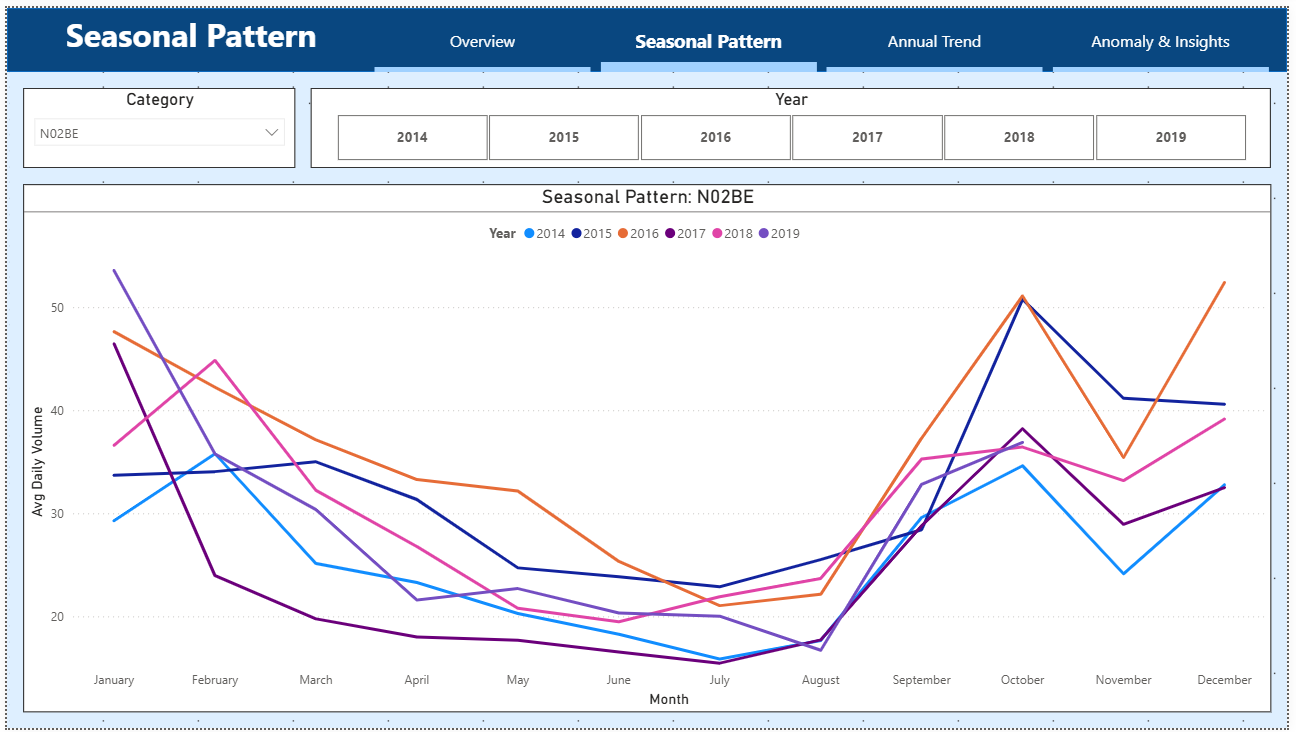

The dashboard page shown, as its layout file describes it:
{"tool":"powerbi","page":{"name":"Seasonal Pattern","canvas":[1280,720],"ordinal":1},"visuals":[{"type":"slicer","title":"Category","fields":{"Values":["salesdaily.Kategori"]},"box":[16,80,272,80],"z":0},{"type":"lineChart","fields":{"Category":["salesdaily.datum.Variation.Date Hierarchy.Month"],"Y":["salesdaily.Avg Daily Volume"],"Series":["salesdaily.Year"]},"box":[16,176,1248,528],"z":1000},{"type":"slicer","title":"Year","fields":{"Values":["salesdaily.datum.Variation.Date Hierarchy.Year"]},"box":[304,80,960,80],"z":2000},{"type":"shape","box":[0,0,1280,64],"z":3000},{"type":"textbox","box":[16,0,336,64],"z":4000},{"type":"pageNavigator","box":[368,0,896,64],"z":4001}]}

Visuals, with their boxes in screenshot pixels (x1, y1, x2, y2), scaled from the page's 1280x720 canvas onto the 1296x732 screenshot:
"Category" slicer: 16/81/292/163
lineChart - salesdaily.datum.Variation.Date Hierarchy.Month x salesdaily.Avg Daily Volume: 16/179/1280/716
"Year" slicer: 308/81/1280/163
shape: 0/0/1295/65
textbox: 16/0/356/65
pageNavigator: 373/0/1280/65
